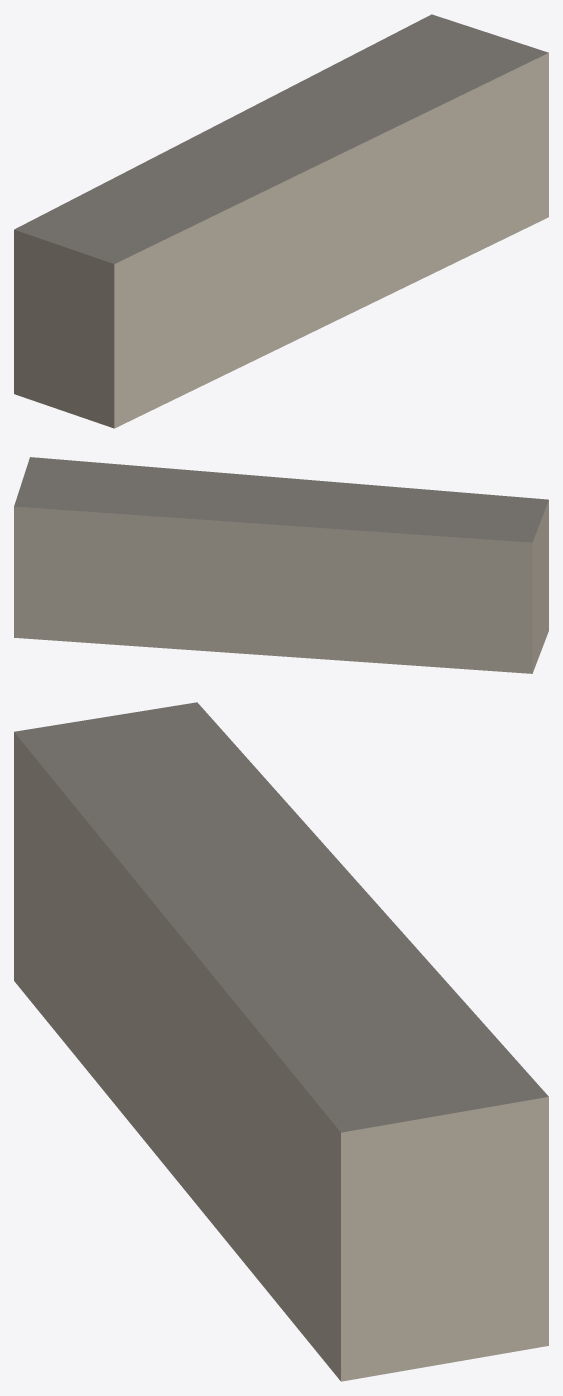
The picture shows the model from 3 angles, top to bottom: view 1: azimuth 30°, elevation 25°; view 2: azimuth 150°, elevation 25°; view 3: azimuth 270°, elevation 25°; orthographic projection. The views are drawn at different scales.
Visible parts, largest first — view 1: HP-w505661357; view 2: HP-w505661357; view 3: HP-w505661357.
Boxes of the visible parts, left/top/right/bottom form: HP-w505661357: left=14, top=14, right=548, bottom=428; HP-w505661357: left=14, top=457, right=548, bottom=673; HP-w505661357: left=14, top=702, right=548, bottom=1381.
Bounding box in the file's own units: 44.47 × 12 × 23.36.
